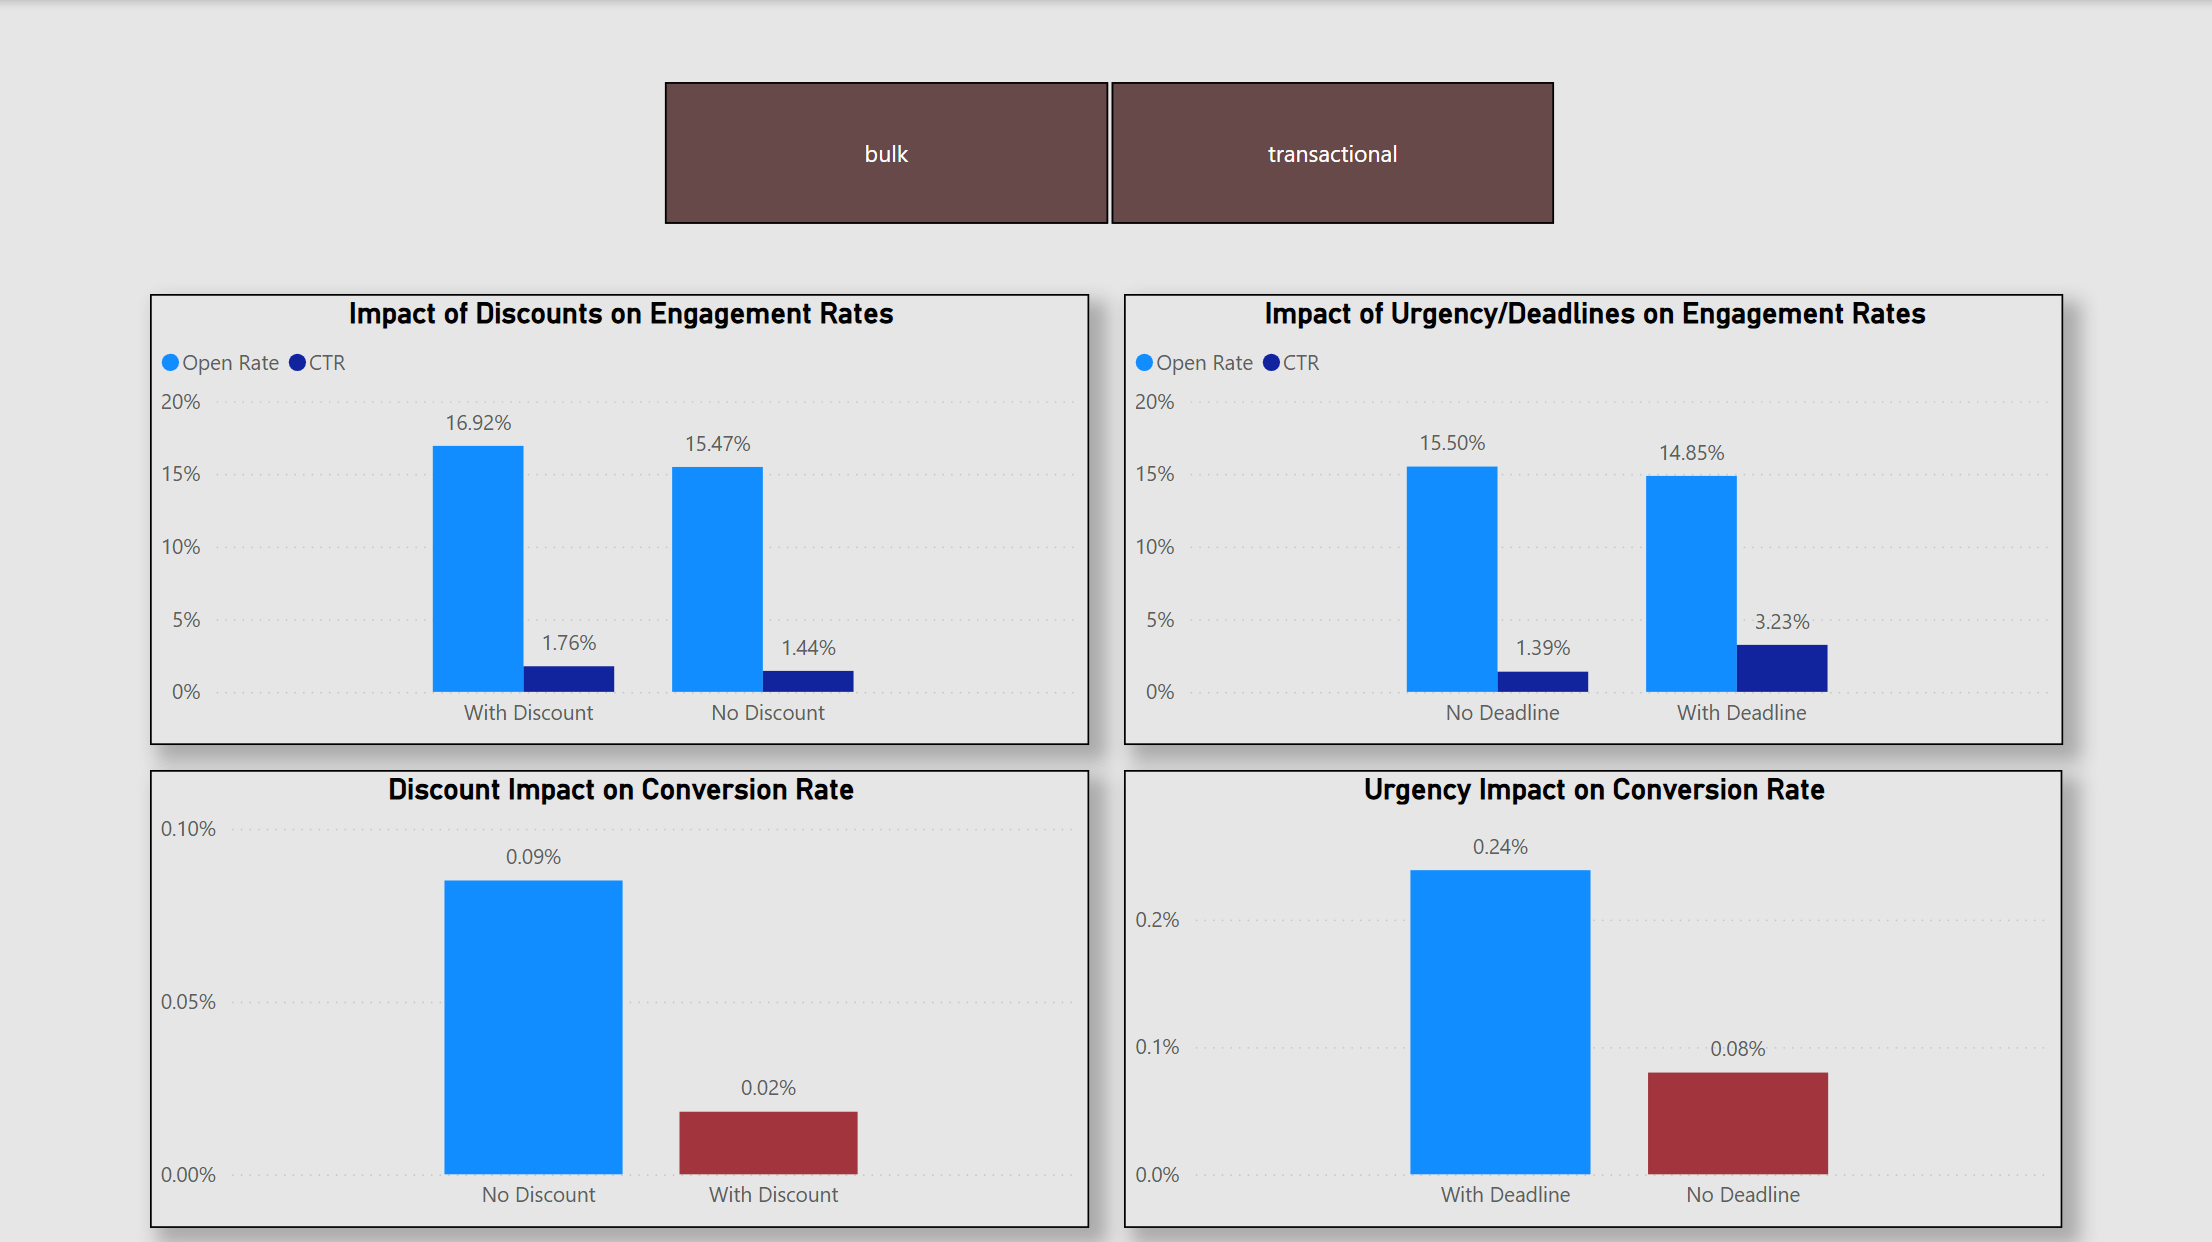

Layout of this report page (visuals, bound fields, positions):
{"tool":"powerbi","page":{"name":"Comparative Analysis","canvas":[1280,720],"ordinal":1},"visuals":[{"type":"clusteredColumnChart","title":"Impact of Discounts on Engagement Rates","fields":{"Category":["Dim_Campaign_Attributes.Discount_Clean"],"Y":["_Measures.Open Rate","_Measures.CTR"]},"box":[87,170.4,543.6,261.2],"z":0},{"type":"clusteredColumnChart","title":"Impact of Urgency/Deadlines on Engagement Rates","fields":{"Y":["_Measures.Open Rate","_Measures.CTR"],"Category":["Dim_Campaign_Attributes.Deadline_Clean"]},"box":[650,170.4,543.6,261.2],"z":1000},{"type":"slicer","fields":{"Values":["Dim_Campaign_Attributes.campaign_type"]},"box":[358.3,40,564.7,95.8],"z":2000},{"type":"clusteredColumnChart","title":"Discount Impact on Conversion Rate","fields":{"Category":["Dim_Campaign_Attributes.Discount_Clean"],"Y":["_Measures.Conversion Rate"]},"box":[87,445,543.6,265],"z":3000},{"type":"clusteredColumnChart","title":"Urgency Impact on Conversion Rate","fields":{"Y":["_Measures.Conversion Rate"],"Category":["Dim_Campaign_Attributes.Deadline_Clean"]},"box":[650,445,543,265],"z":4000}]}

Visuals, with their boxes in screenshot pixels (x1, y1, x2, y2), scaled from the page's 1280x720 canvas onto the 2212x1242 screenshot:
"Impact of Discounts on Engagement Rates" clusteredColumnChart: [x1=150, y1=294, x2=1090, y2=745]
"Impact of Urgency/Deadlines on Engagement Rates" clusteredColumnChart: [x1=1123, y1=294, x2=2063, y2=745]
slicer - Dim_Campaign_Attributes.campaign_type: [x1=619, y1=69, x2=1595, y2=234]
"Discount Impact on Conversion Rate" clusteredColumnChart: [x1=150, y1=768, x2=1090, y2=1225]
"Urgency Impact on Conversion Rate" clusteredColumnChart: [x1=1123, y1=768, x2=2062, y2=1225]
